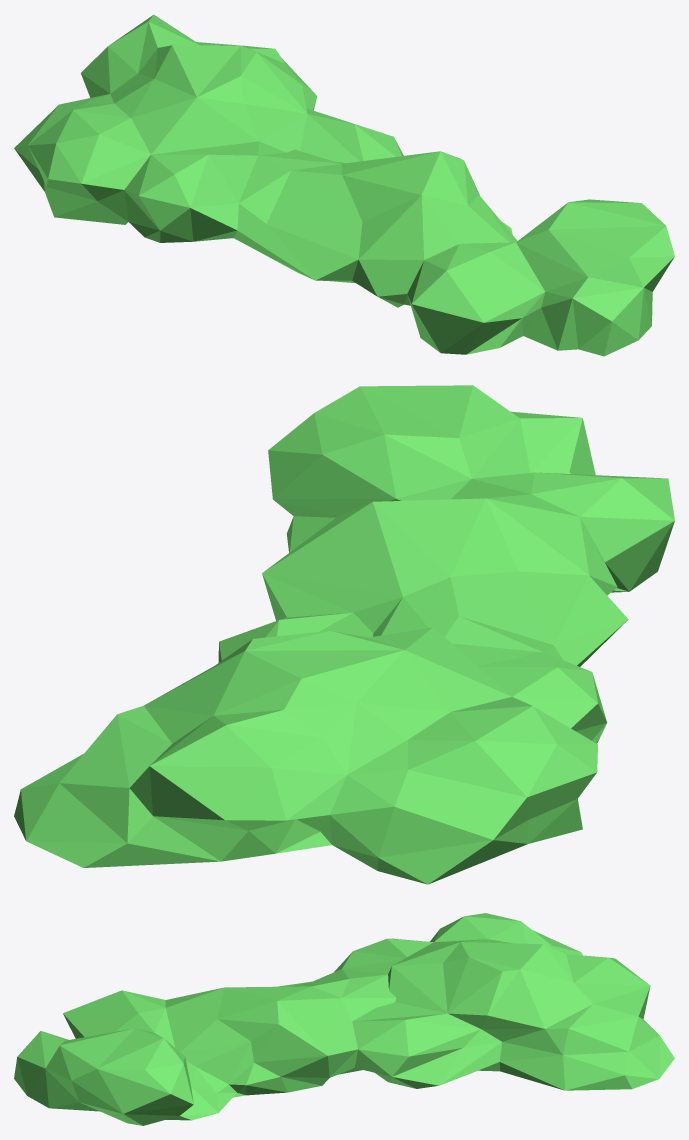
File: cloud 2.fbx
3 views of the same model, one above another, from view 1: azimuth 30°, elevation 25°; view 2: azimuth 150°, elevation 25°; view 3: azimuth 270°, elevation 25° (orthographic). The views are drawn at different scales.
Parts seen in each view (by area): view 1: Sphere.013; view 2: Sphere.013; view 3: Sphere.013.
Part boxes in pixels (x1,y1,x2,y2): Sphere.013: [14, 14, 674, 356]; Sphere.013: [14, 385, 674, 884]; Sphere.013: [14, 913, 674, 1125].
Bounding box in the file's own units: 15486 × 4122 × 25515.
